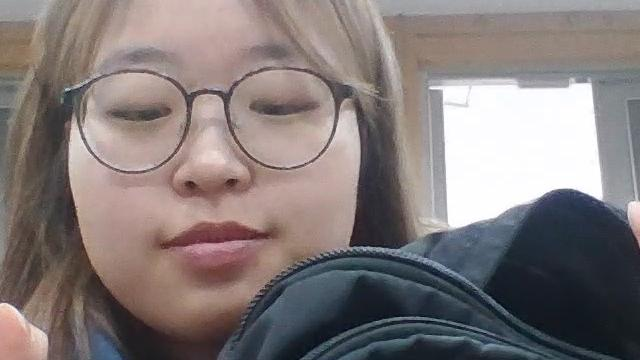eye: (141, 108, 161, 127), (264, 105, 285, 123)
iris: (115, 105, 172, 120), (252, 104, 310, 115)
